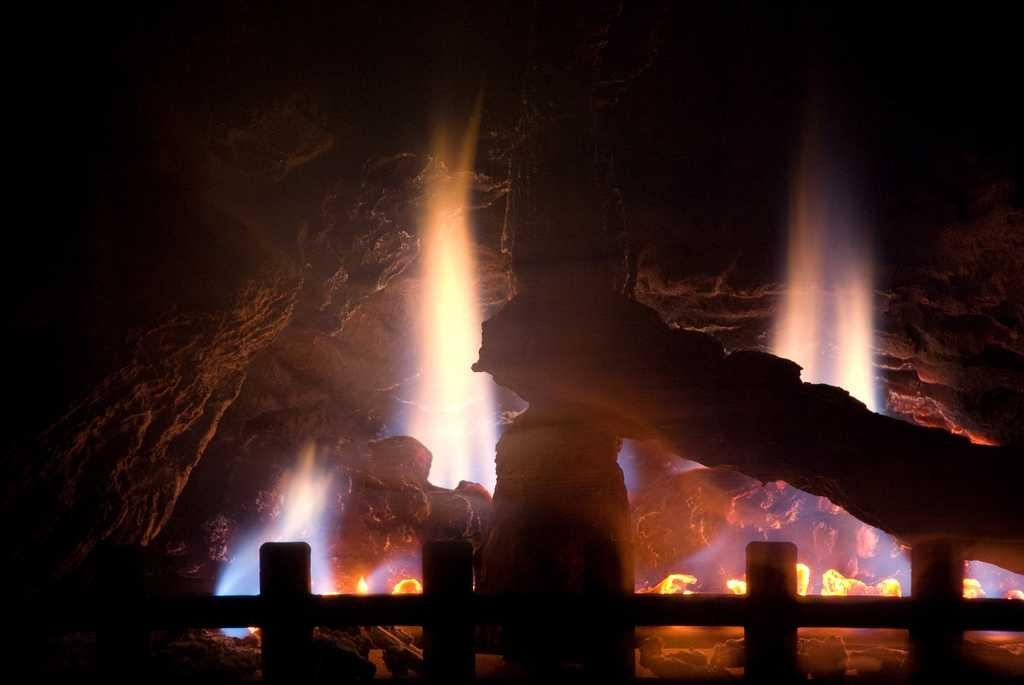fire: (388, 113, 506, 497), (780, 163, 894, 409), (264, 453, 348, 559)
